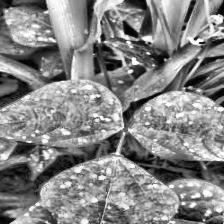Bean Rust: (45, 160, 176, 224), (0, 81, 124, 146), (133, 87, 224, 163), (3, 0, 94, 49), (149, 177, 224, 224), (104, 34, 168, 74), (0, 203, 73, 224), (25, 149, 58, 183), (0, 134, 22, 157)
